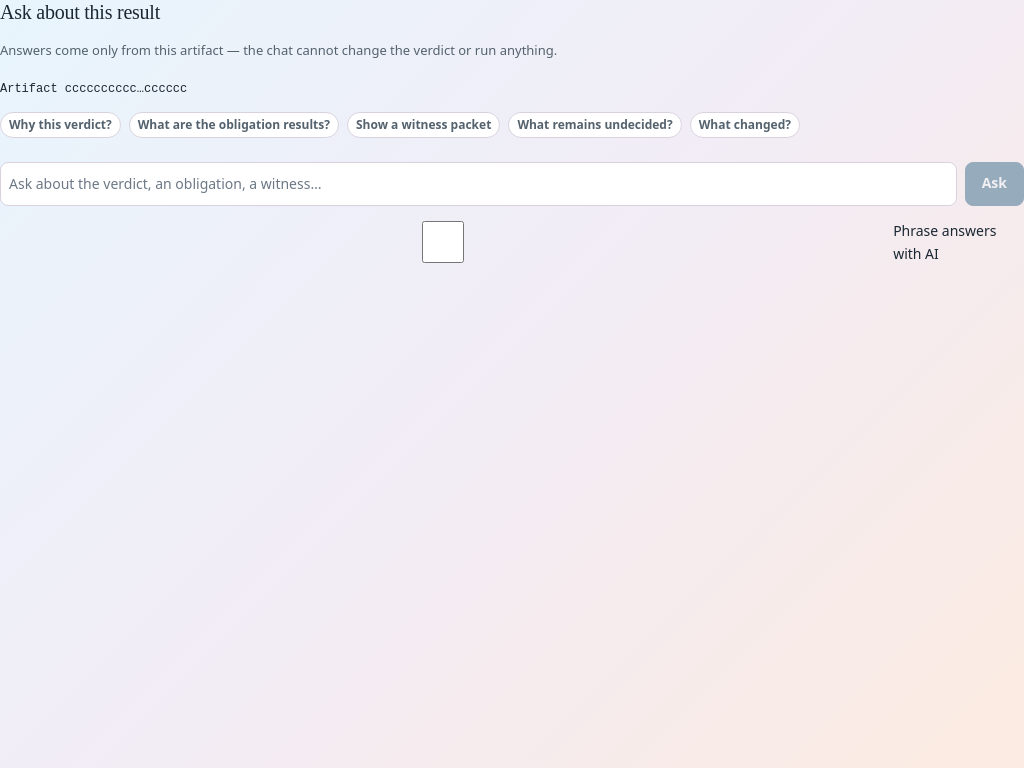
Scenario: P1-10 interrogation chat panel › shows AI phrasing above — never instead of — the facts
In the field with placeholder "Ask about the verdict, an obligation, a witness…": (478, 184) 0,162 -> 957,206, type "Why DIFFERENT?"
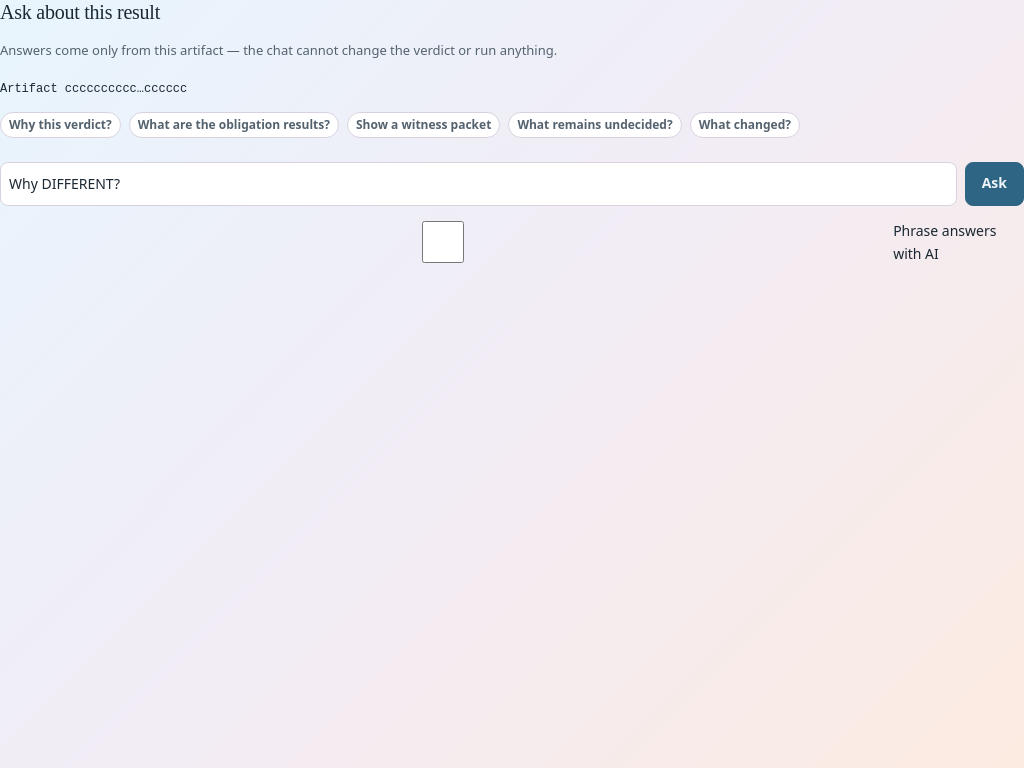
Click the button "Ask": click(994, 184) 965,162 -> 1023,206
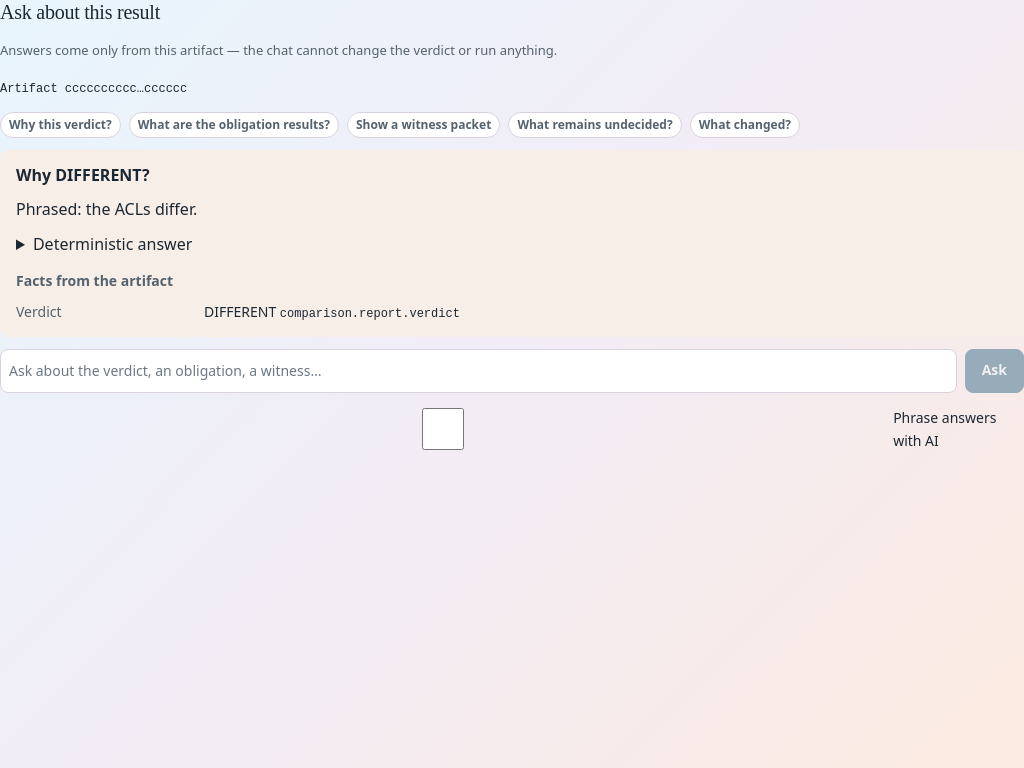
Check: the text "Phrased: the ACLs differ." is shown, box 16,198 -> 197,220
Check: the text "comparison.report.verdict" is shown, box 280,307 -> 460,321
